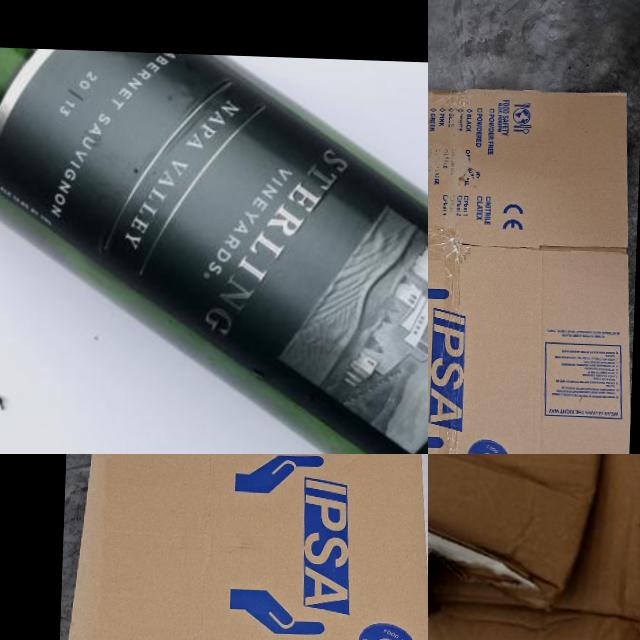garrafa de vidro: (0, 47, 428, 454)
papelão: (428, 74, 640, 454), (56, 454, 428, 640), (428, 454, 640, 640)
